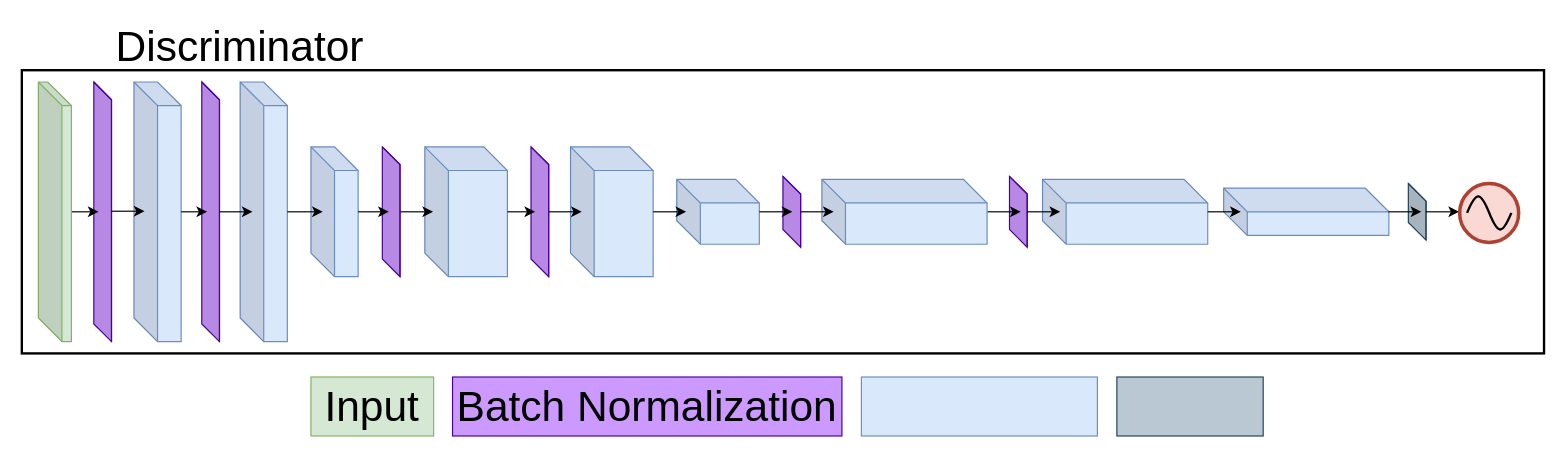
This 1565x457 diagram has some shape labels left out. The shapes that lost their labels are listed below. From the top down, each one's centre as x and y in pixels, then its label:
the point at 978,406: Convolution
the point at 1189,406: Dense
